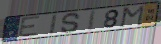8: (103, 9, 120, 29)
E: (17, 15, 41, 40)
I: (85, 9, 97, 33), (48, 14, 58, 36)
M: (118, 5, 146, 29)
S: (60, 12, 82, 34)
